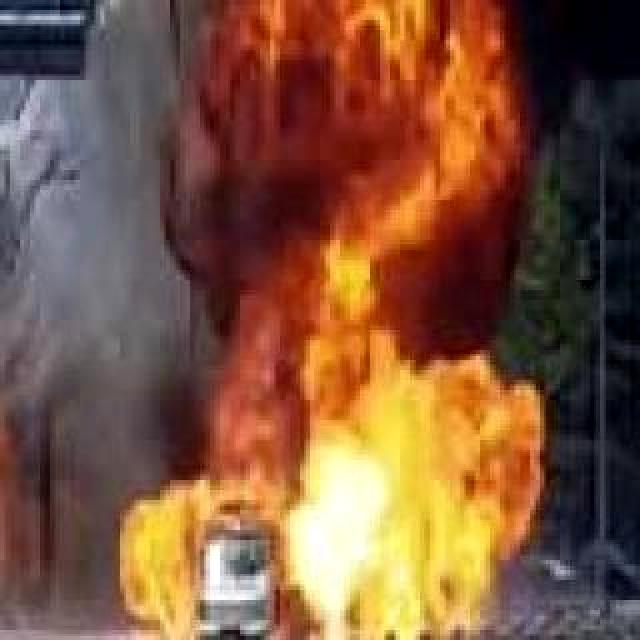fire: (244, 322, 546, 640), (110, 484, 242, 640)
